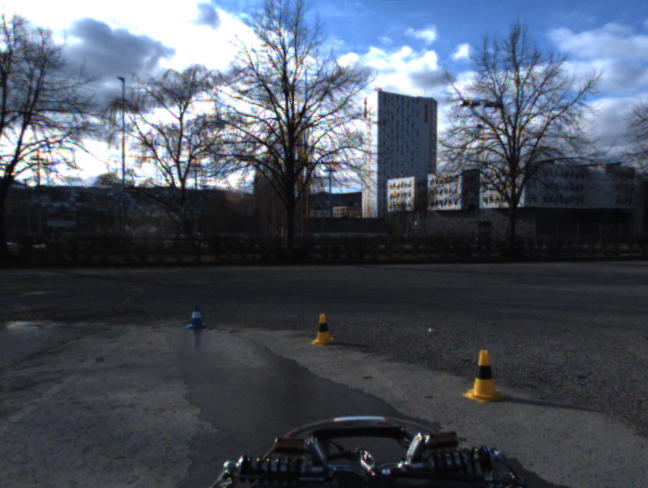cone-small-blue: (186, 304, 206, 329)
cone-small-yellow: (462, 350, 509, 403), (310, 313, 337, 346)
